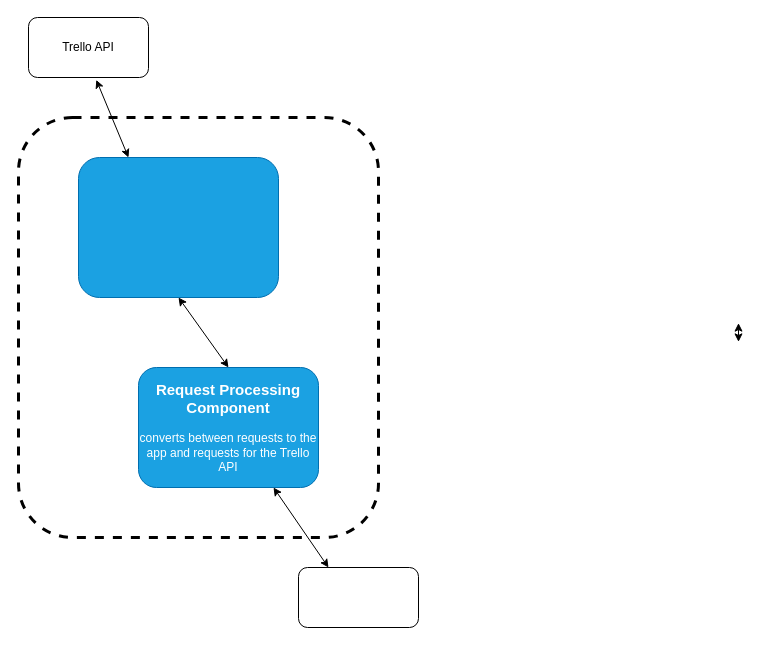
The diagram is 765 pixels wide and 645 high, and some of its shapes have lost their labels. The box of each missing label's shape, as (x1, y1, x2, y2) in pixels:
Flask: (298, 566, 418, 628)
Trello API Component sends requests to the trello API: (78, 156, 278, 298)
